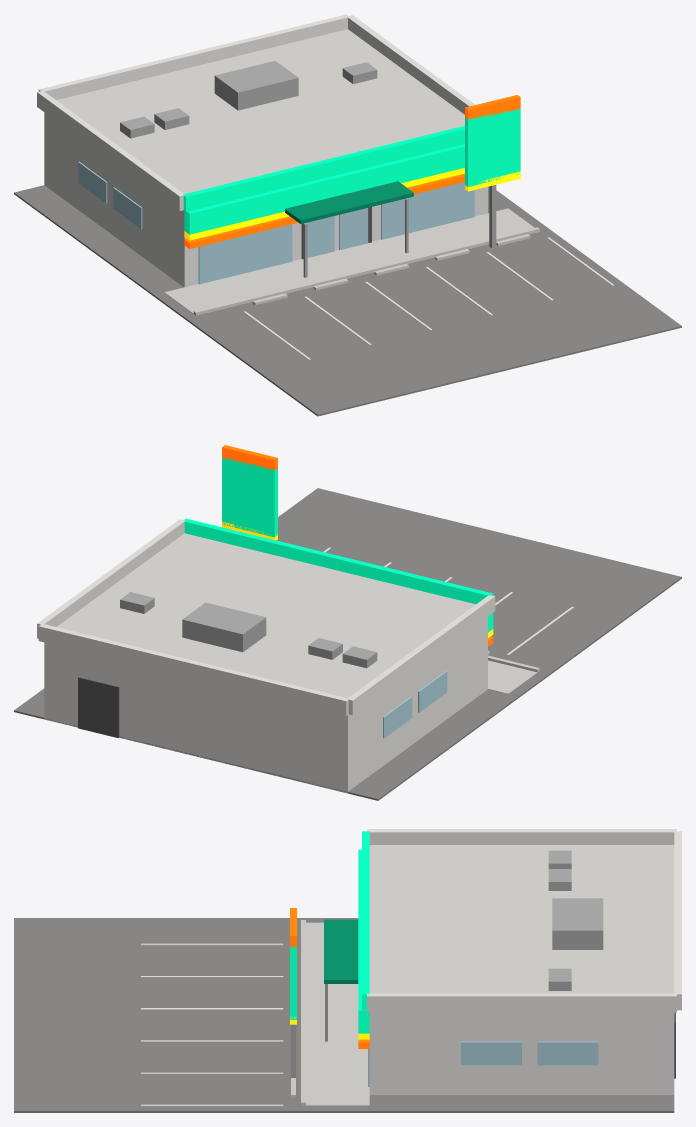
Rendered from convenience_store.glb.
3 renders of one model, top to bottom at view 1: azimuth 30°, elevation 25°; view 2: azimuth 150°, elevation 25°; view 3: azimuth 270°, elevation 25°, orthographic. The views are drawn at different scales.
Parts seen in each view (by area): view 1: site_base, parking_slab, roof_slab, body, sidewalk, fascia_green, parapet_front, parapet_back, sign_panel, glass_L, glass_R, parapet_L (+11 smaller); view 2: roof_slab, body, site_base, parking_slab, parapet_back, parapet_front, sign_panel, parapet_L, mech_room, parapet_R, svc_door, sidewalk (+6 smaller); view 3: parking_slab, roof_slab, body, site_base, sidewalk, parapet_R, parapet_L, mech_room, canopy_slab, win_R2, win_R1, parapet_front (+7 smaller).
Boxes of the visible parts, <box> form: site_base: <box>14,185,681,416</box>; parking_slab: <box>196,232,671,413</box>; roof_slab: <box>56,29,464,193</box>; body: <box>44,112,487,287</box>; sidewalk: <box>164,208,534,313</box>; fascia_green: <box>184,144,464,234</box>; parapet_front: <box>183,126,464,211</box>; parapet_back: <box>38,14,349,100</box>; sign_panel: <box>465,109,520,186</box>; glass_L: <box>198,224,292,284</box>; glass_R: <box>381,182,474,239</box>; parapet_L: <box>37,91,184,211</box>; roof_slab: <box>56,533,475,698</box>; body: <box>44,617,487,793</box>; site_base: <box>14,488,681,800</box>; parking_slab: <box>276,490,671,629</box>; parapet_back: <box>38,624,349,715</box>; parapet_front: <box>184,518,493,604</box>; sign_panel: <box>222,457,277,537</box>; parapet_L: <box>348,595,495,715</box>; mech_room: <box>182,602,266,652</box>; parapet_R: <box>37,519,185,638</box>; svc_door: <box>78,677,119,738</box>; sidewalk: <box>488,660,537,693</box>; parking_slab: <box>14,923,300,1105</box>; roof_slab: <box>369,845,674,993</box>; body: <box>369,1012,674,1094</box>; site_base: <box>14,918,674,1112</box>; sidewalk: <box>306,922,369,1105</box>; parapet_R: <box>367,993,676,1012</box>; parapet_L: <box>367,829,676,844</box>; mech_room: <box>552,898,603,949</box>; canopy_slab: <box>324,919,358,983</box>; win_R2: <box>537,1041,598,1065</box>; win_R1: <box>461,1041,521,1065</box>; parapet_front: <box>362,831,369,1010</box>.
Size of the model in its own units: 18 by 6.9 by 26.3.
